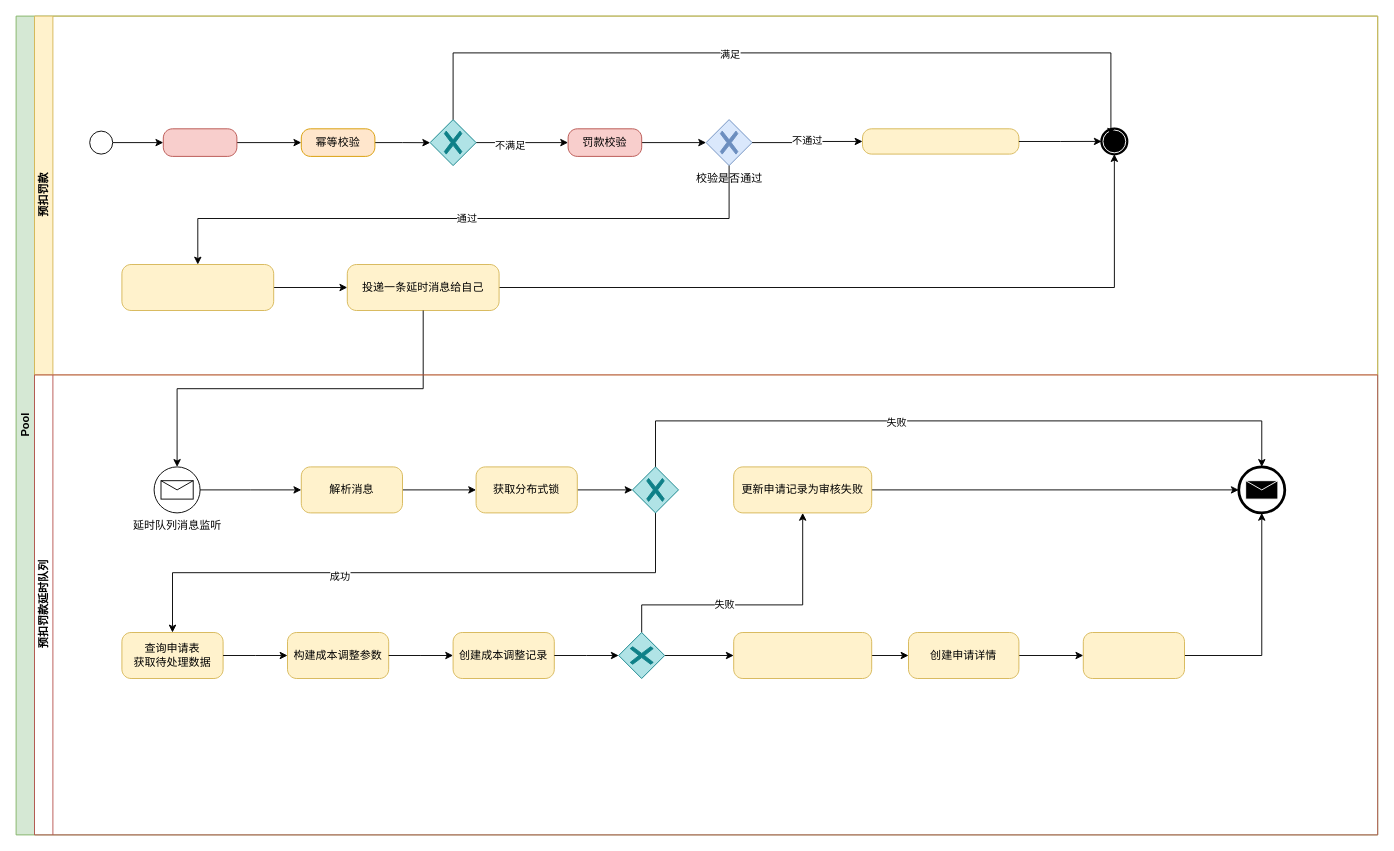
This 1394x851 diagram has some shape labels left out. Here are the shapes that lost their labels. From the top down, the centre of each, then its label:
pixel 199 142: 参数校验
pixel 452 142: 是否满足幂等条件
pixel 940 141: 插入一条审核失败的申请记录
pixel 197 287: 插入一条待审核的申请记录
pixel 655 489: 是否获取到锁
pixel 641 655: 成本调整是否创建成功
pixel 802 655: 更新申请记录为审核成功
pixel 1133 655: 执行成本调整
